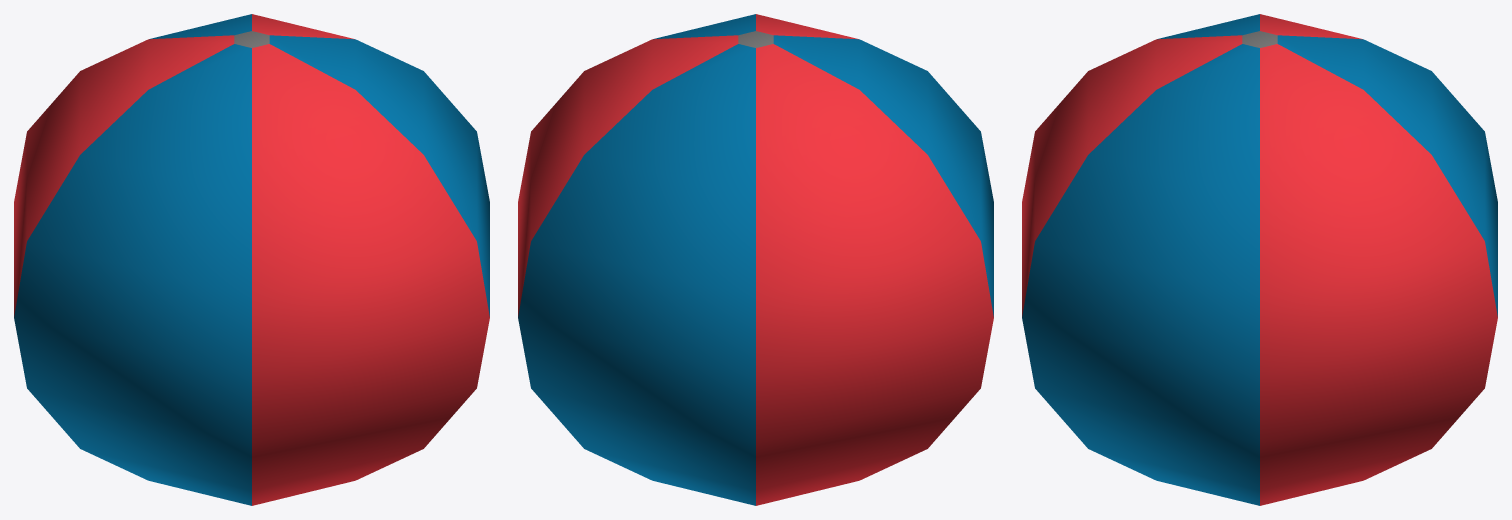
Rendered from Ball.fbx.
3 renders of one model, left to right at view 1: azimuth 30°, elevation 25°; view 2: azimuth 150°, elevation 25°; view 3: azimuth 270°, elevation 25°, orthographic.
Parts seen in each view (by area): view 1: SM_Ball_01; view 2: SM_Ball_01; view 3: SM_Ball_01.
Boxes of the visible parts, box(x1,y1,x2,y2) form: SM_Ball_01: box(14, 14, 489, 505); SM_Ball_01: box(518, 14, 993, 505); SM_Ball_01: box(1022, 14, 1497, 505).
Size of the model in its own units: 1396 by 1236 by 1209.
